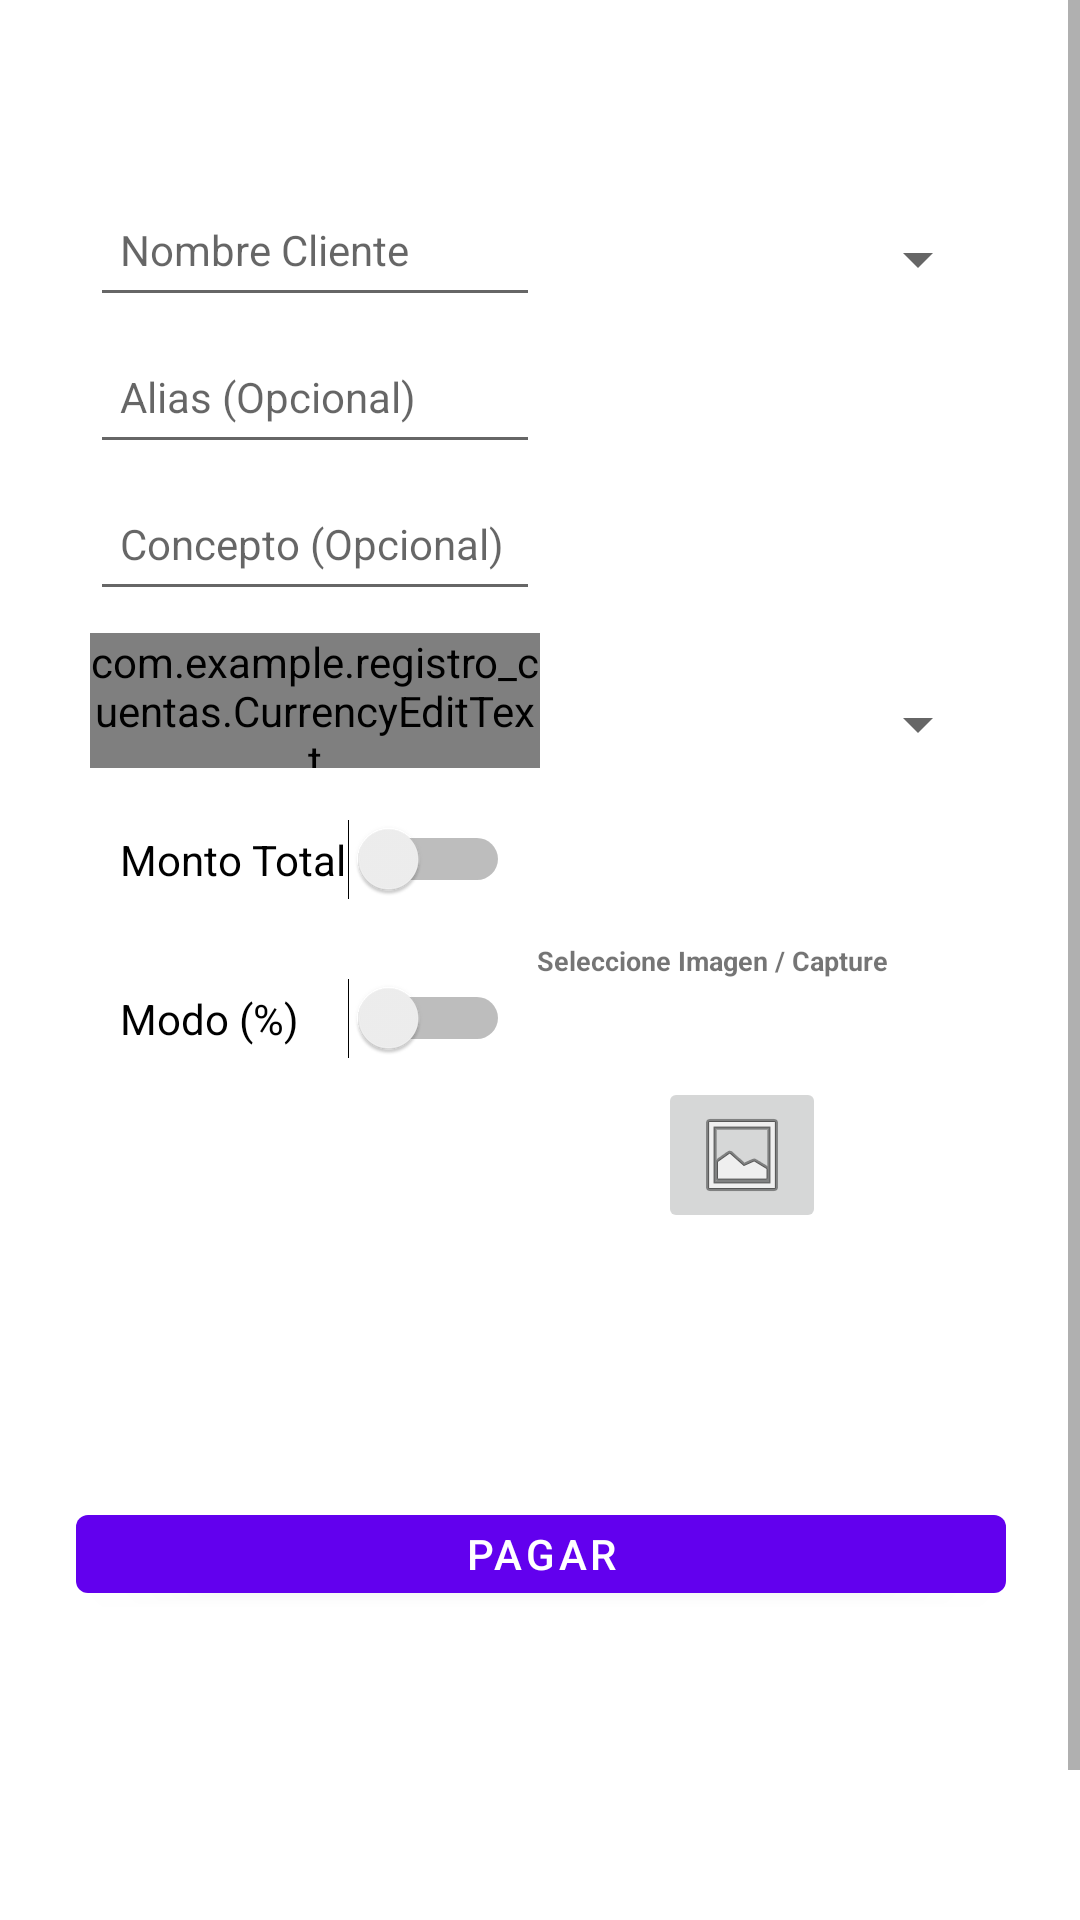

Screen size 1080 × 1920. Icon name, then its center in pixels as point (x, y):
gallery: point (742, 1155)
